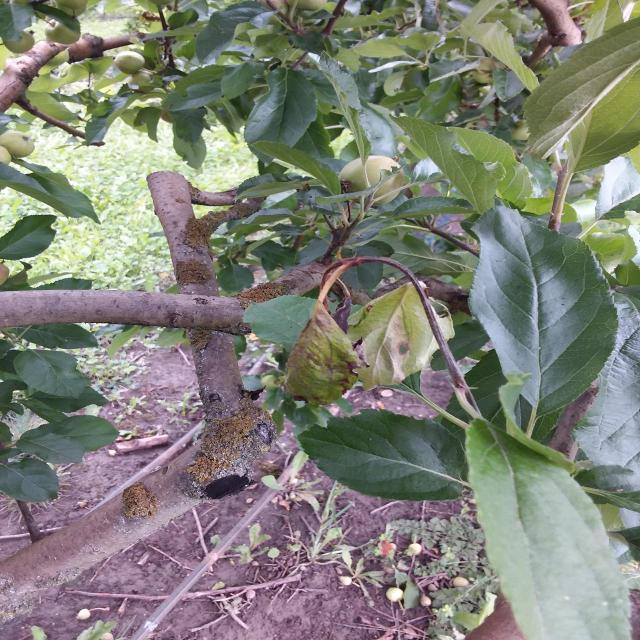-FireBlight-: (274, 248, 436, 407)
